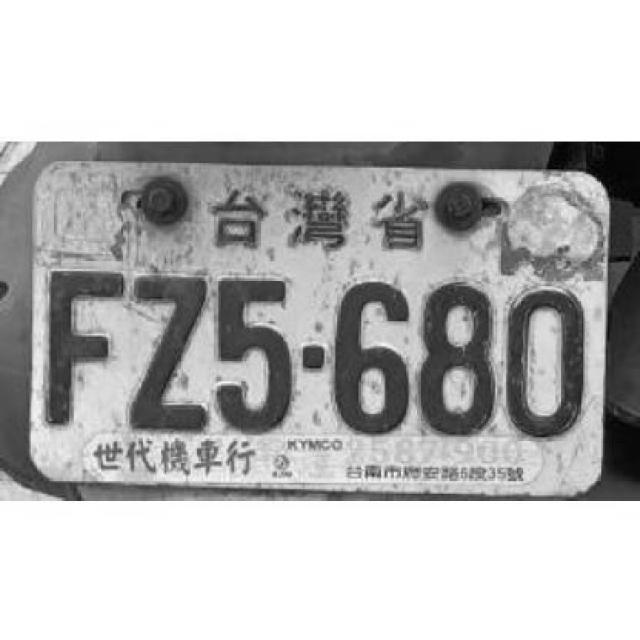-: (303, 344, 326, 368)
0: (505, 286, 586, 439)
5: (215, 276, 294, 432)
6: (330, 278, 412, 434)
8: (418, 276, 497, 438)
F: (46, 268, 123, 429)
Z: (131, 268, 209, 435)
